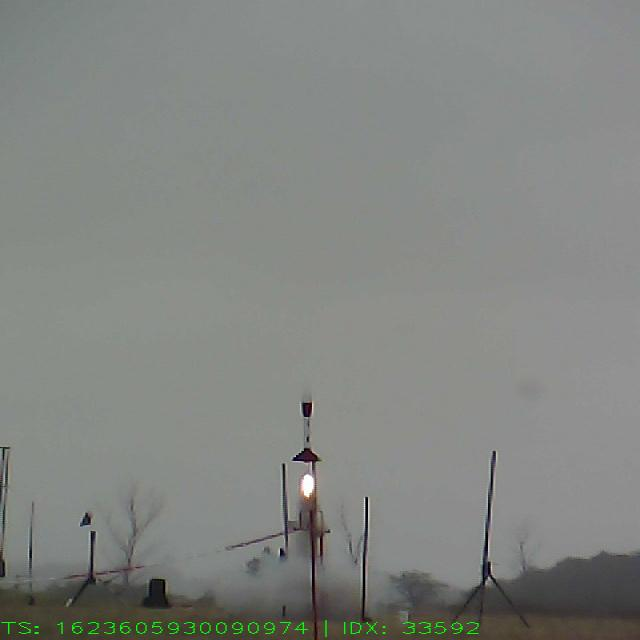Rocket: (290, 386, 322, 464)
